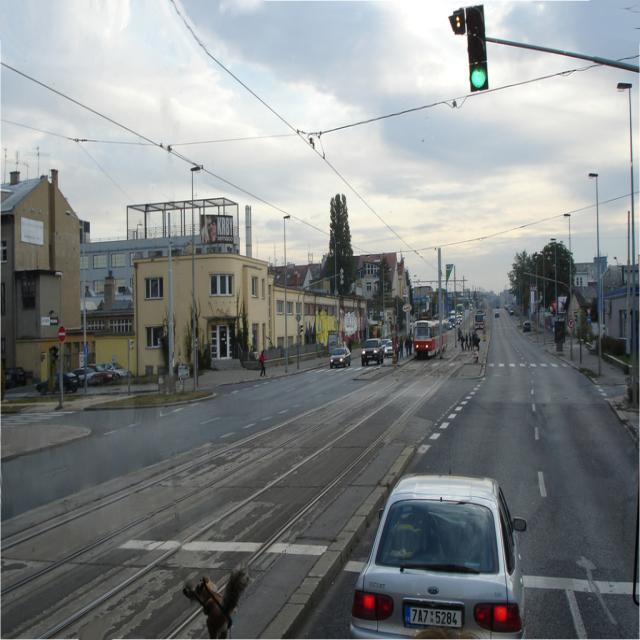traffic light: (464, 7, 491, 90)
